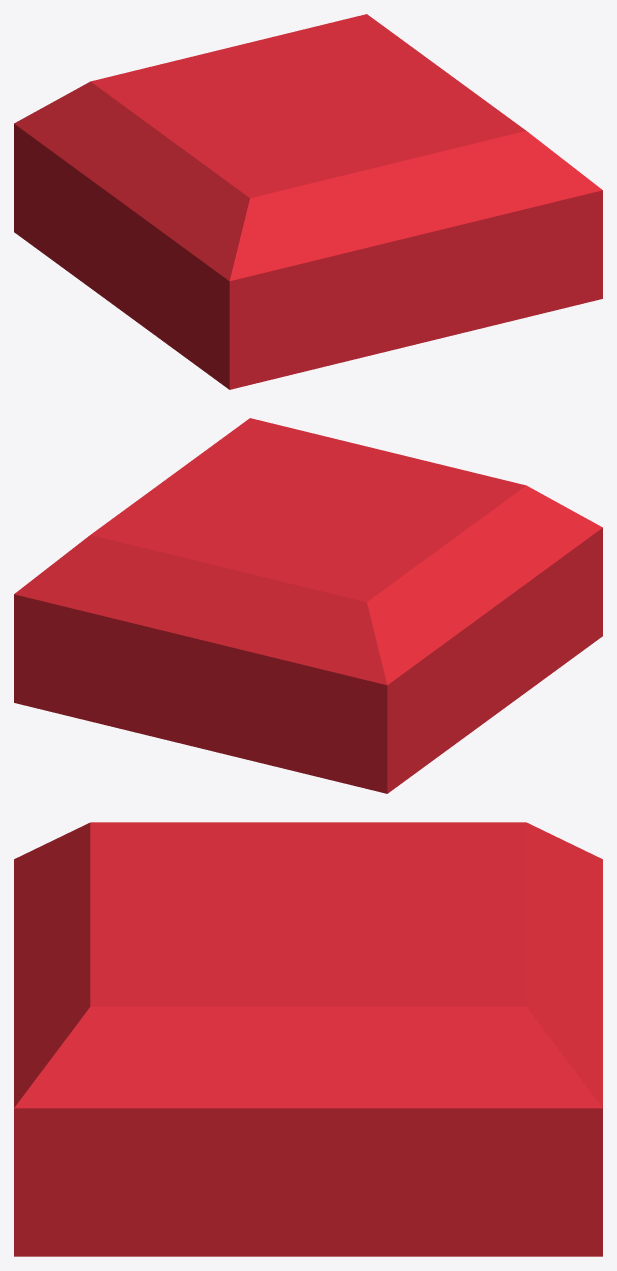
The picture shows the model from 3 angles, top to bottom: view 1: azimuth 30°, elevation 25°; view 2: azimuth 150°, elevation 25°; view 3: azimuth 270°, elevation 25°; orthographic projection. The views are drawn at different scales.
Visible parts, largest first — view 1: Cube; view 2: Cube; view 3: Cube.
Part boxes in pixels (bbox=[...]): Cube: bbox=[14, 14, 602, 389]; Cube: bbox=[14, 418, 602, 793]; Cube: bbox=[14, 822, 602, 1256].
Bounding box in the file's own units: 200 × 81.55 × 200.
